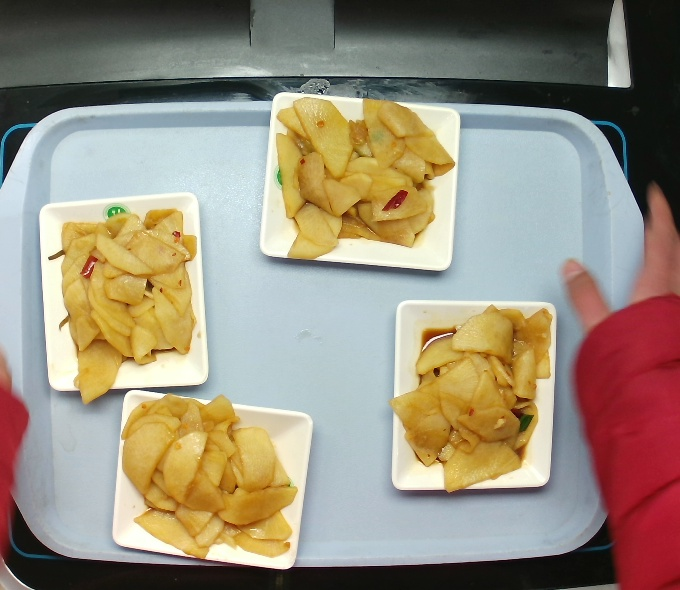wcq-YanLuoBo: (122, 379, 300, 567), (266, 88, 453, 258), (48, 207, 193, 398), (398, 306, 549, 489)
